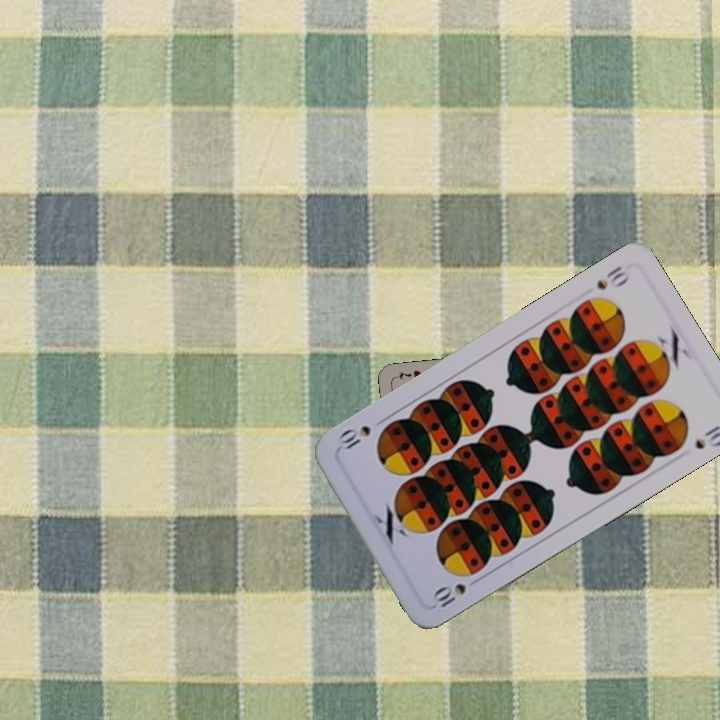S10: (428, 573, 483, 611), (592, 261, 632, 293)
